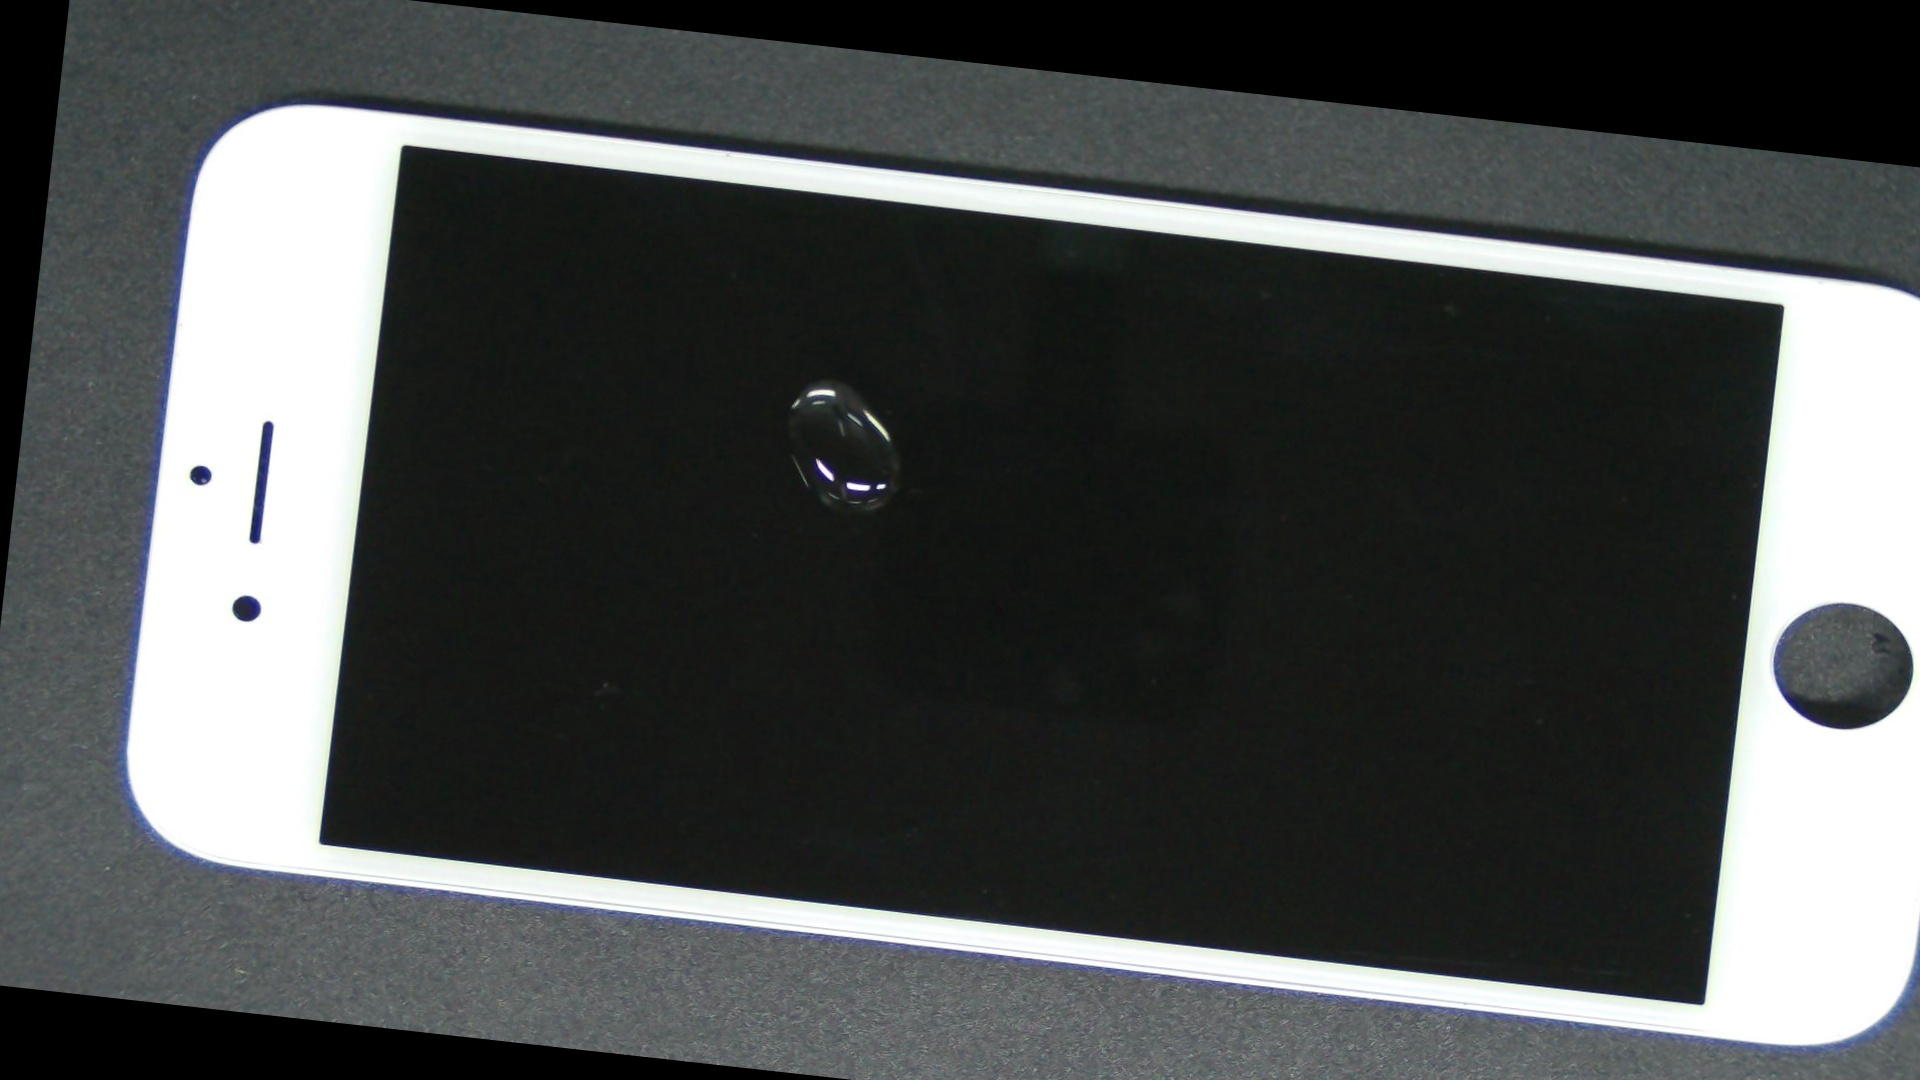oil: (417, 170, 1244, 587)
